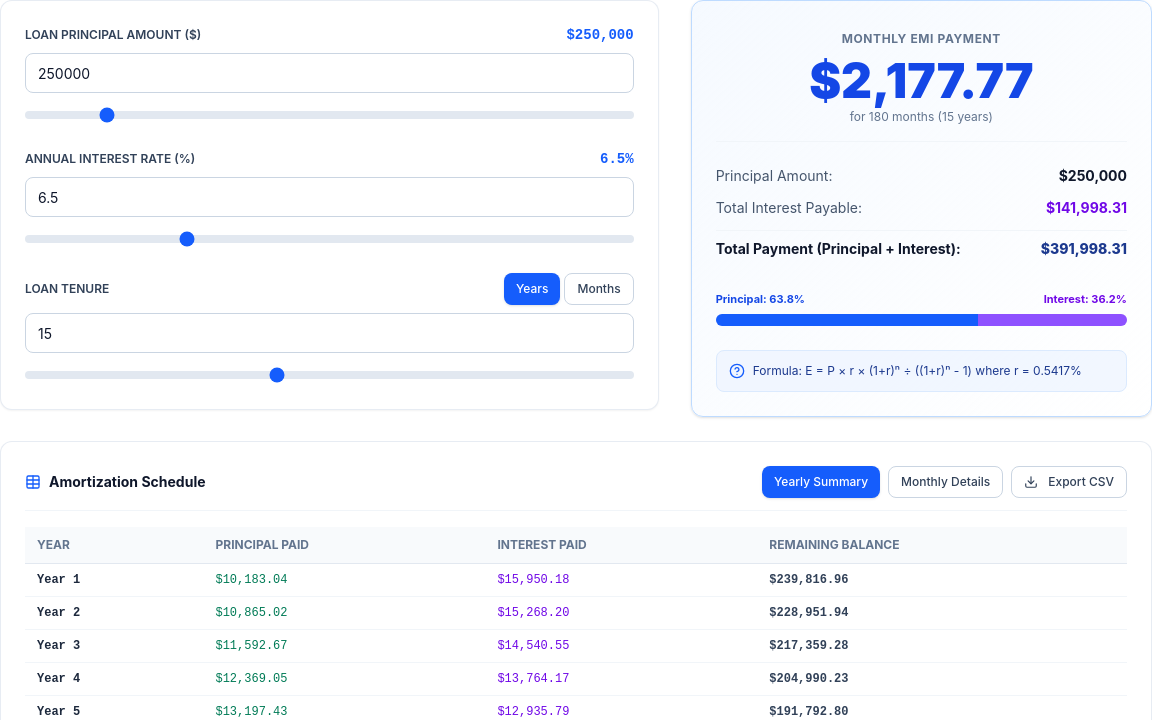
it: CALCULATOR TOOLS (4/4) › EMI Calculator › handles tenure mode toggling between years and months
The image size is (1152, 720).
Click the button "Months" at (599, 289), box [564,273,634,305]
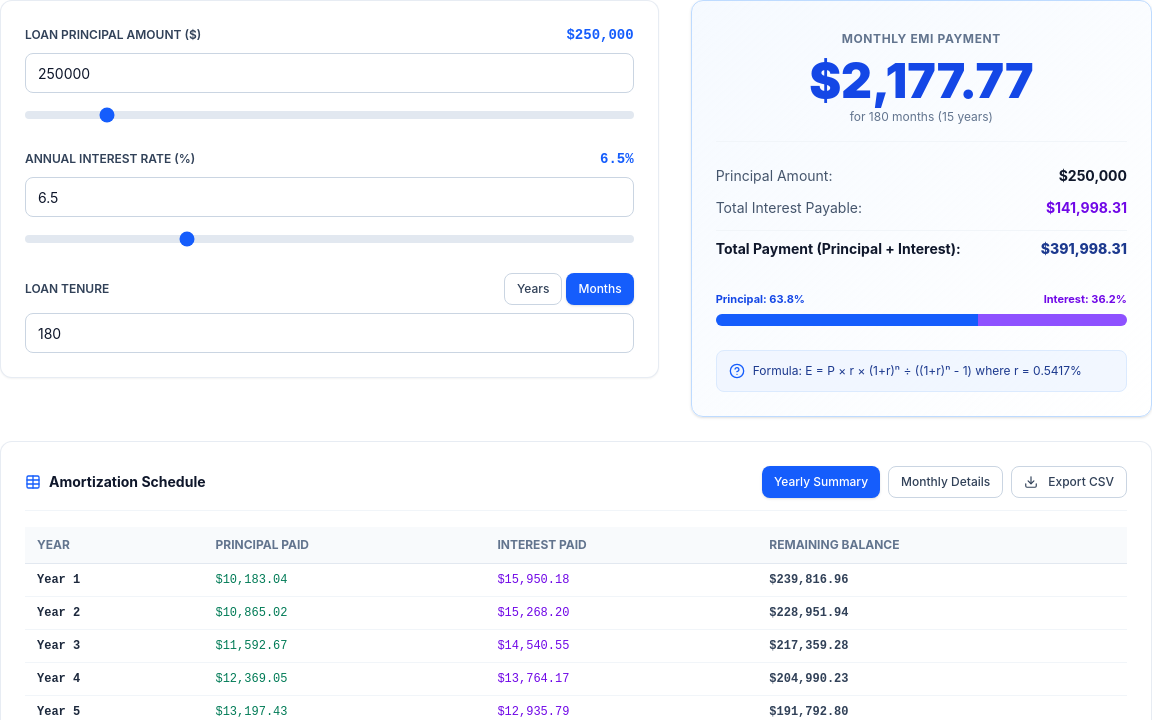
Replace the text in the number field named "loan tenure" with "120" at (329, 333), box [25,313,634,353]
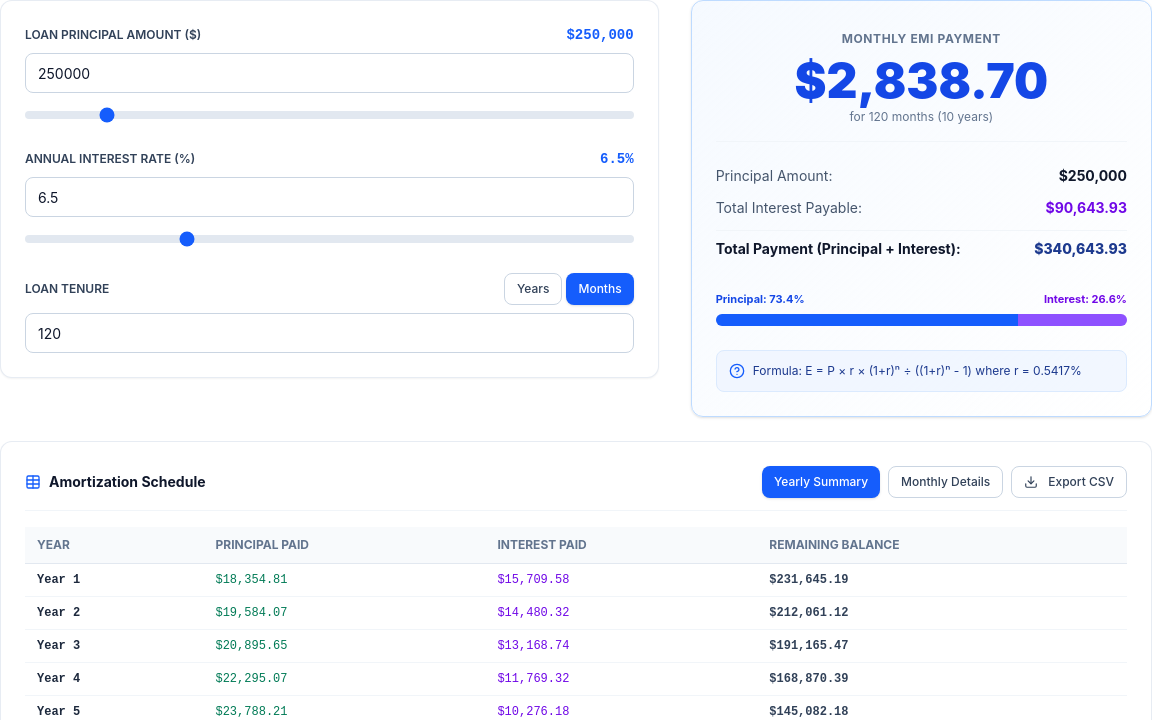
Expected: the text "for 120 months (10 years)" is shown, [850,109,993,124]
